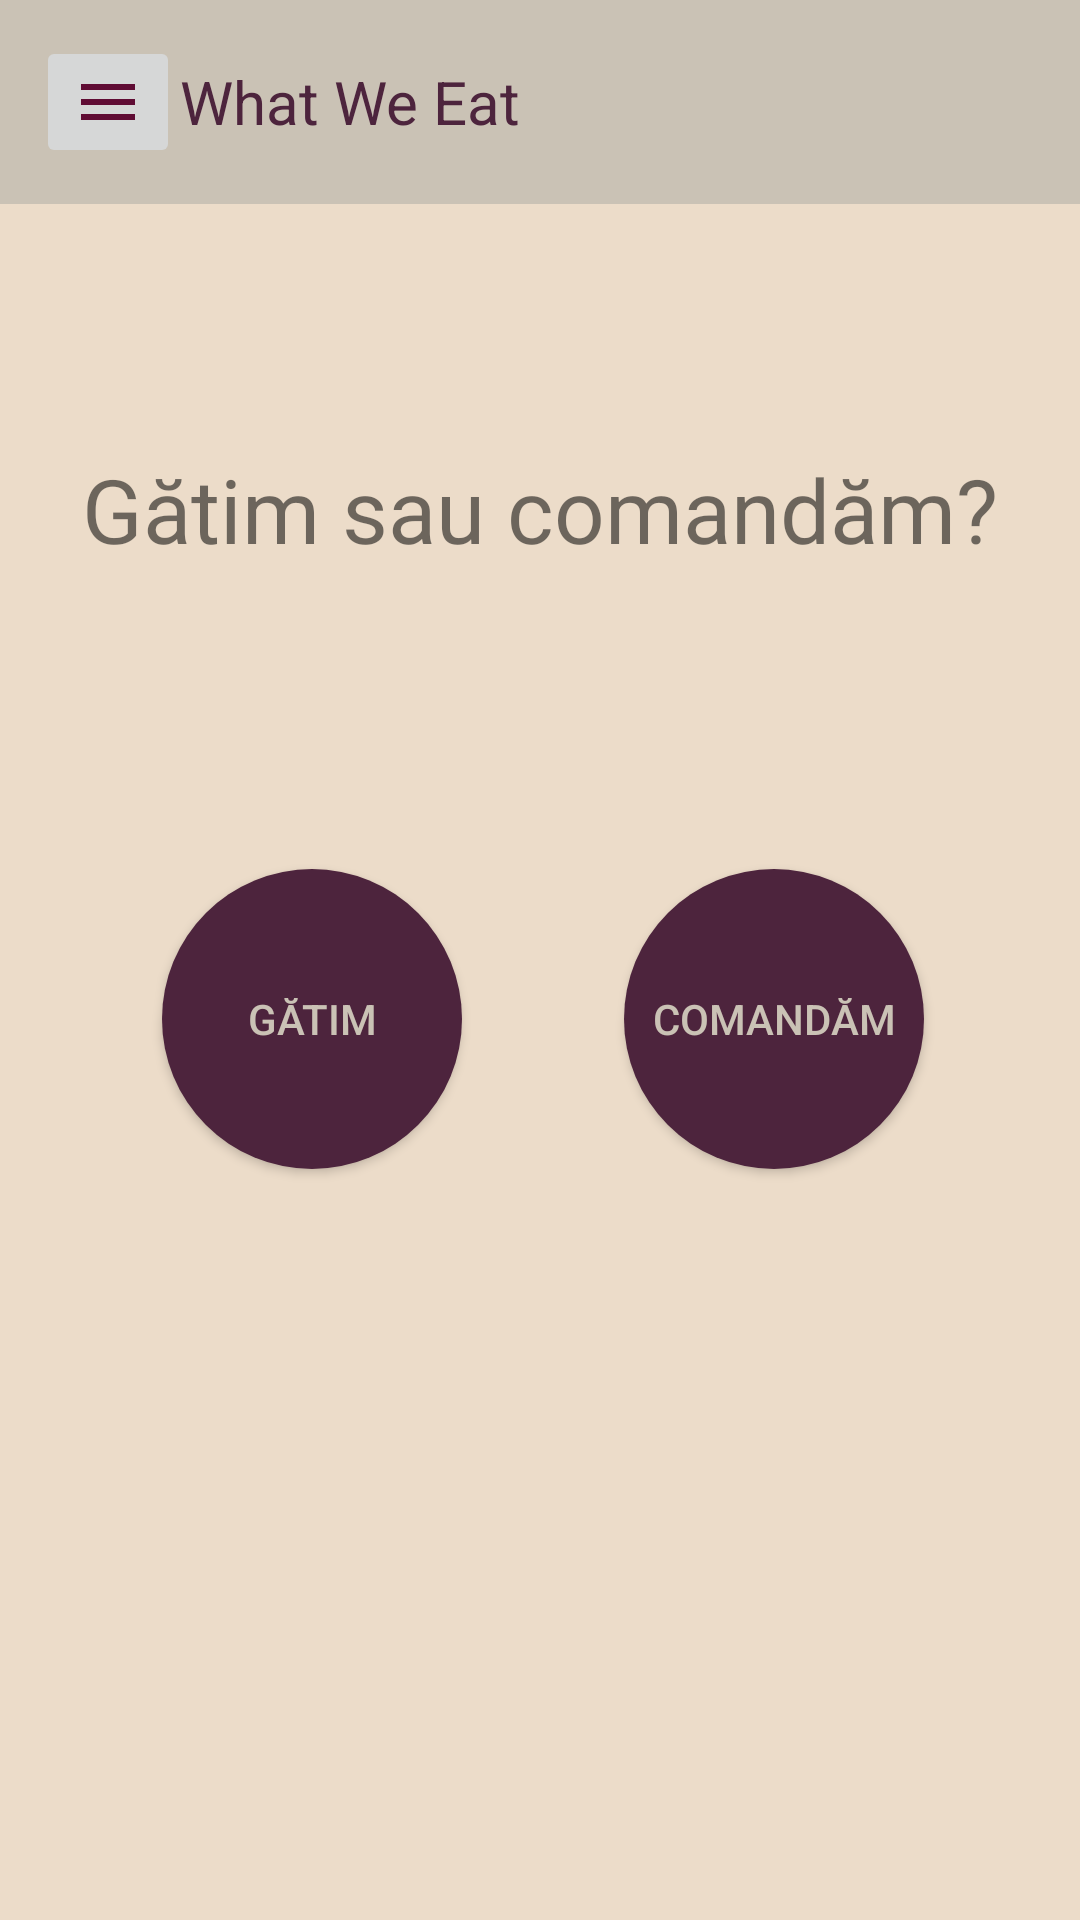

Where to tap for icons on this 1080px×1920px app screen, as [x,y]:
menu: [108,102]
